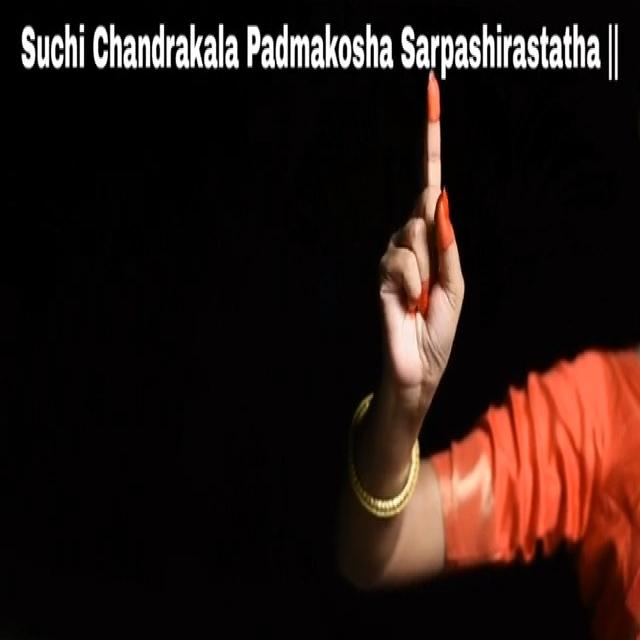Suchi: (362, 71, 484, 419)
bangle: (344, 428, 429, 525)
text: (10, 10, 627, 84)
